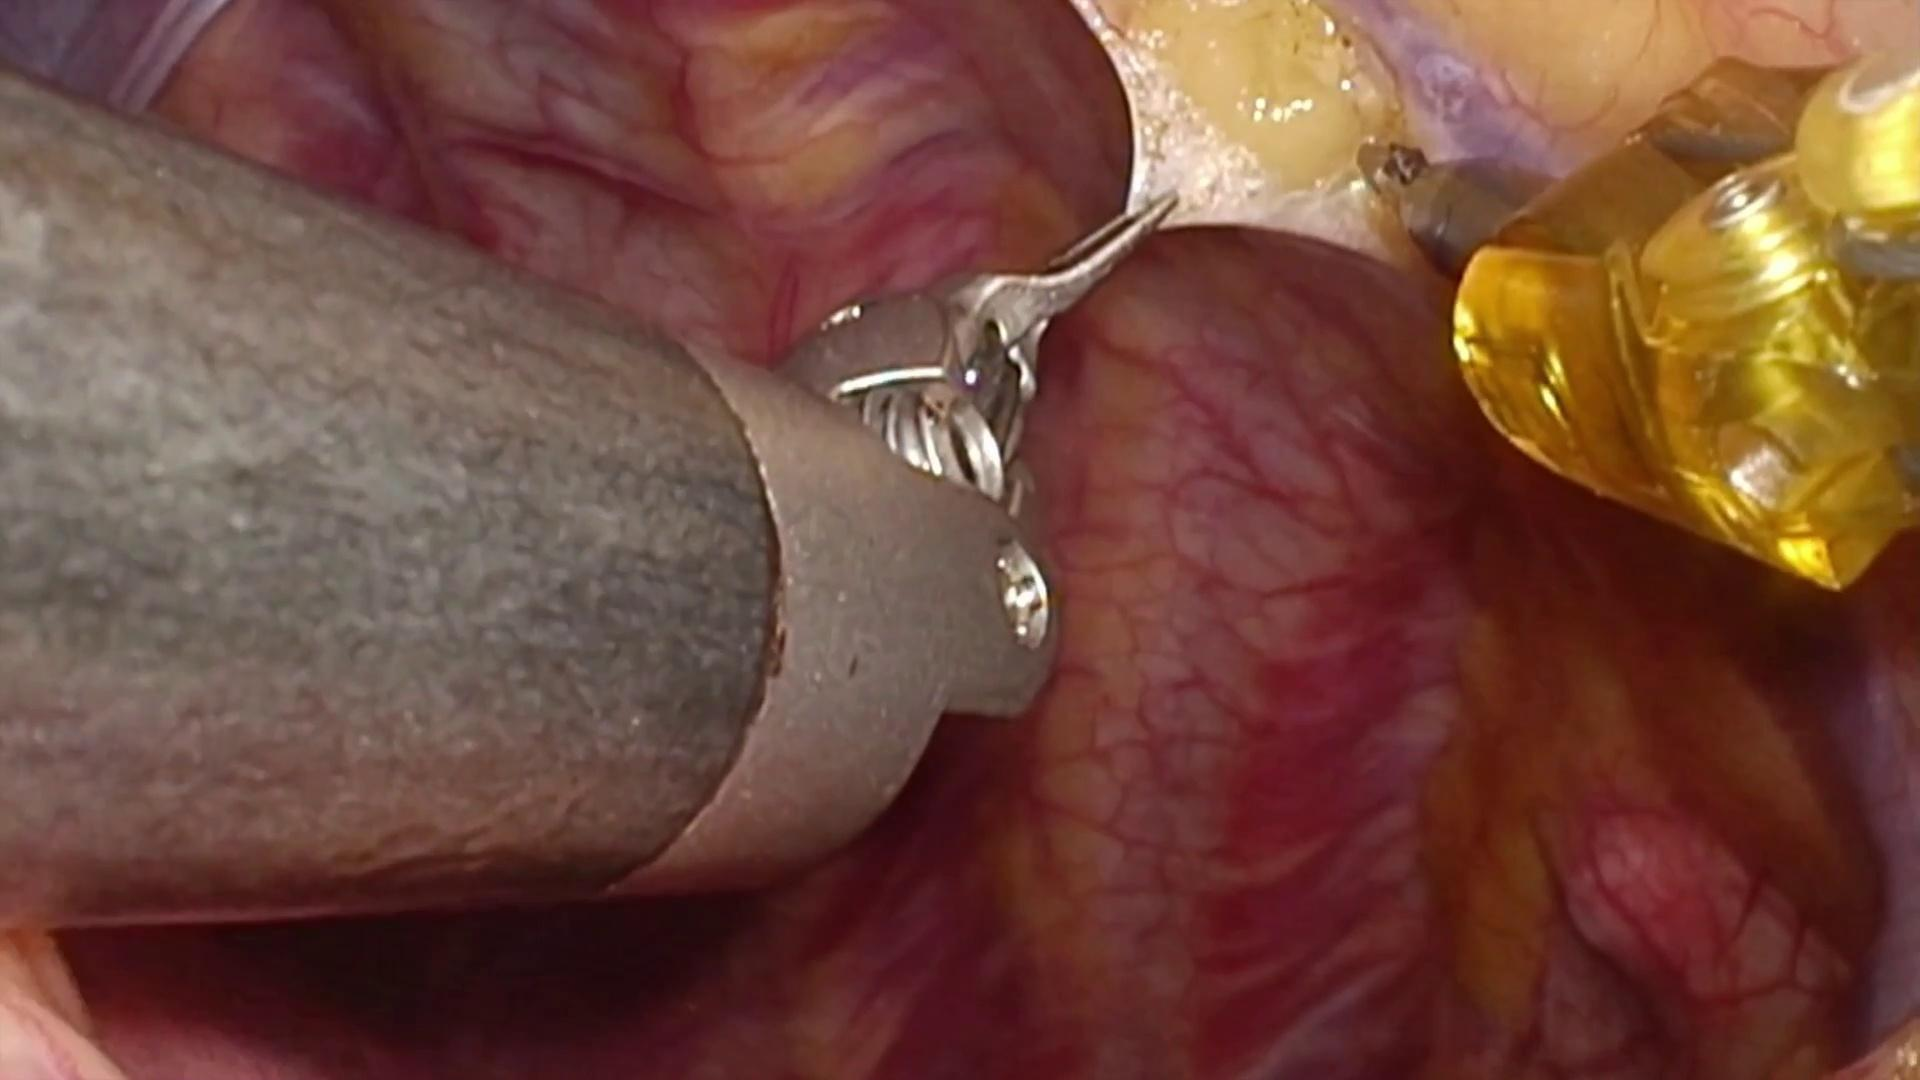Cautery_Spatula: (1354, 145, 1565, 269), (1348, 127, 1437, 216)
Debakey: (944, 187, 1183, 397)
